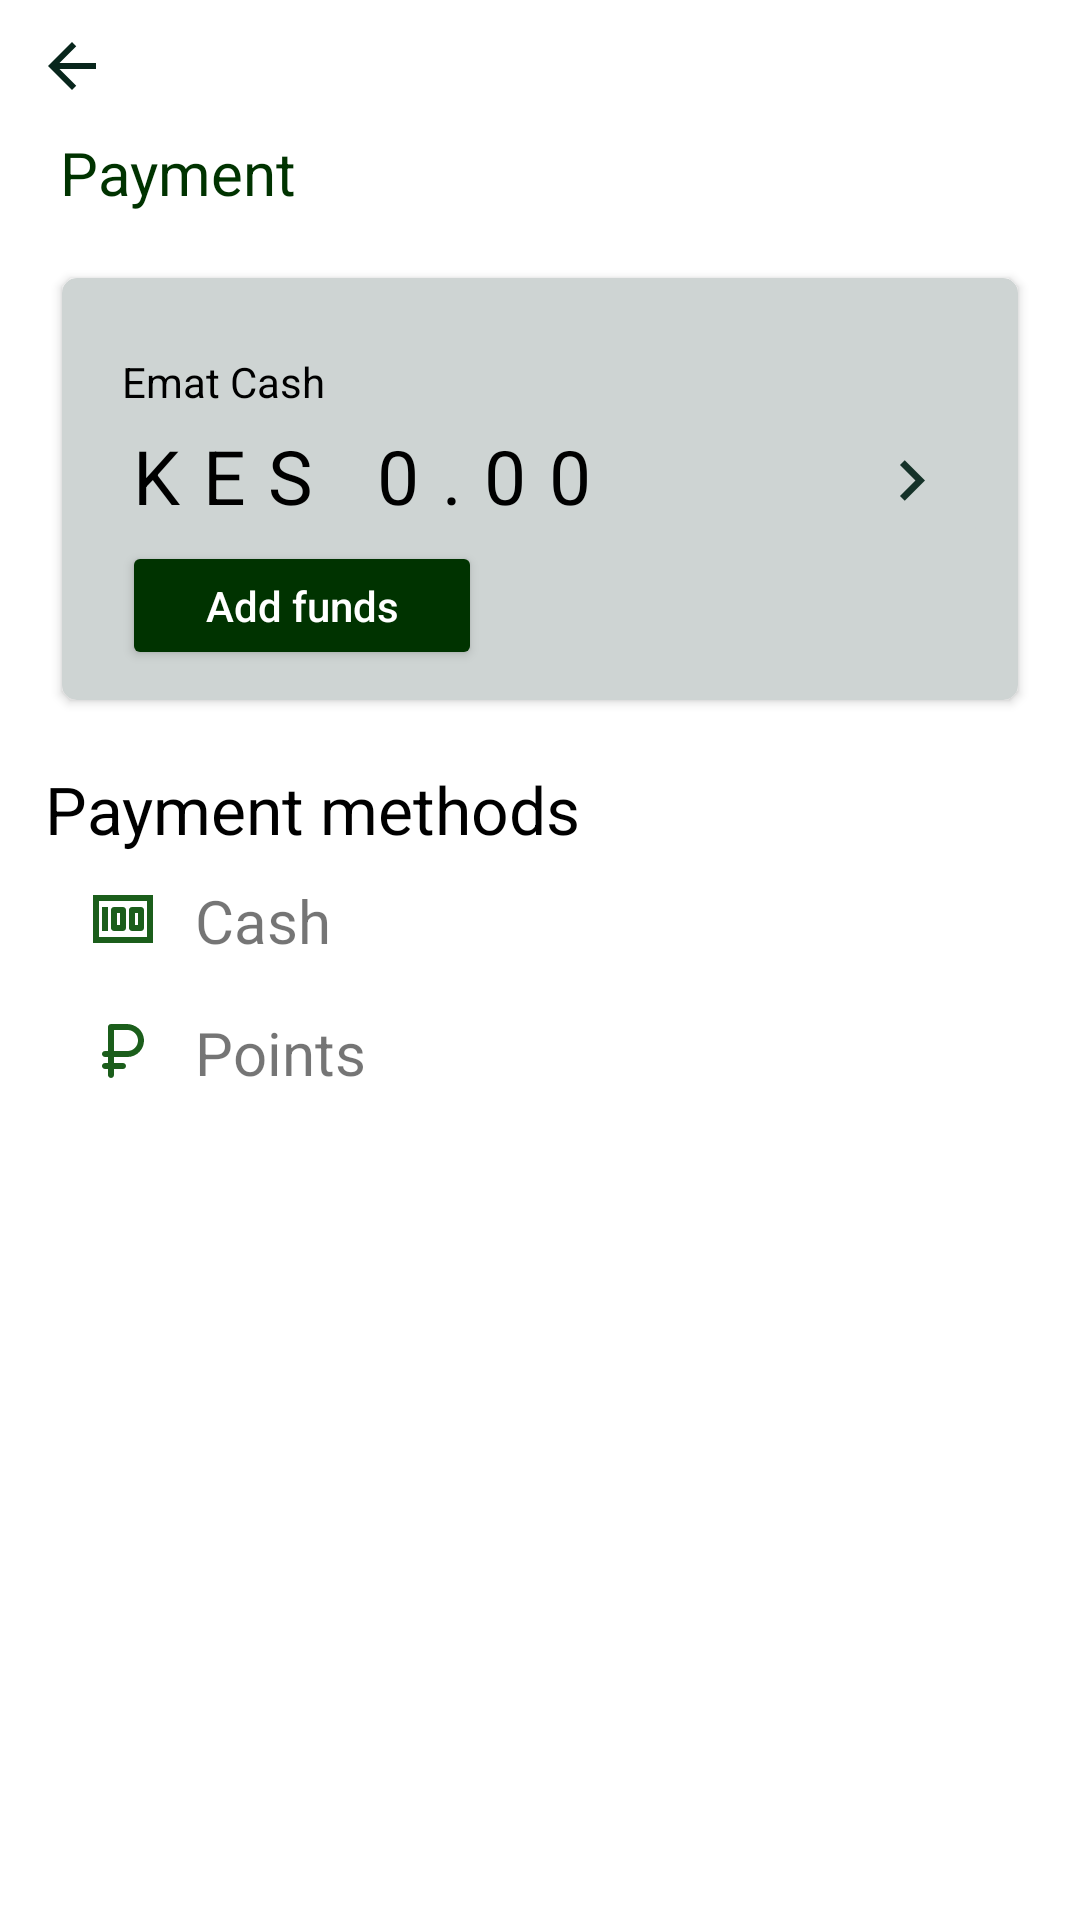

Screen size 1080x1920. Icon name, then its center in pixels as (x,y):
arrow back: (72,66)
chevron right: (912,480)
currency ruble: (123,1051)
